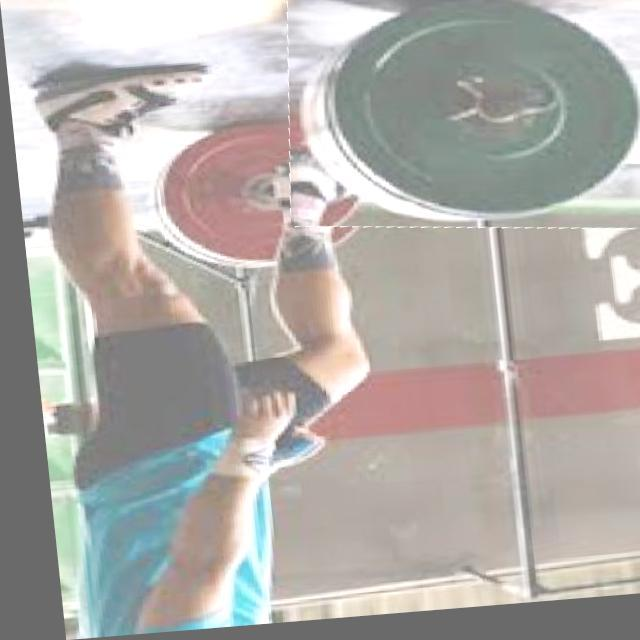barbell: (273, 1, 640, 254)
